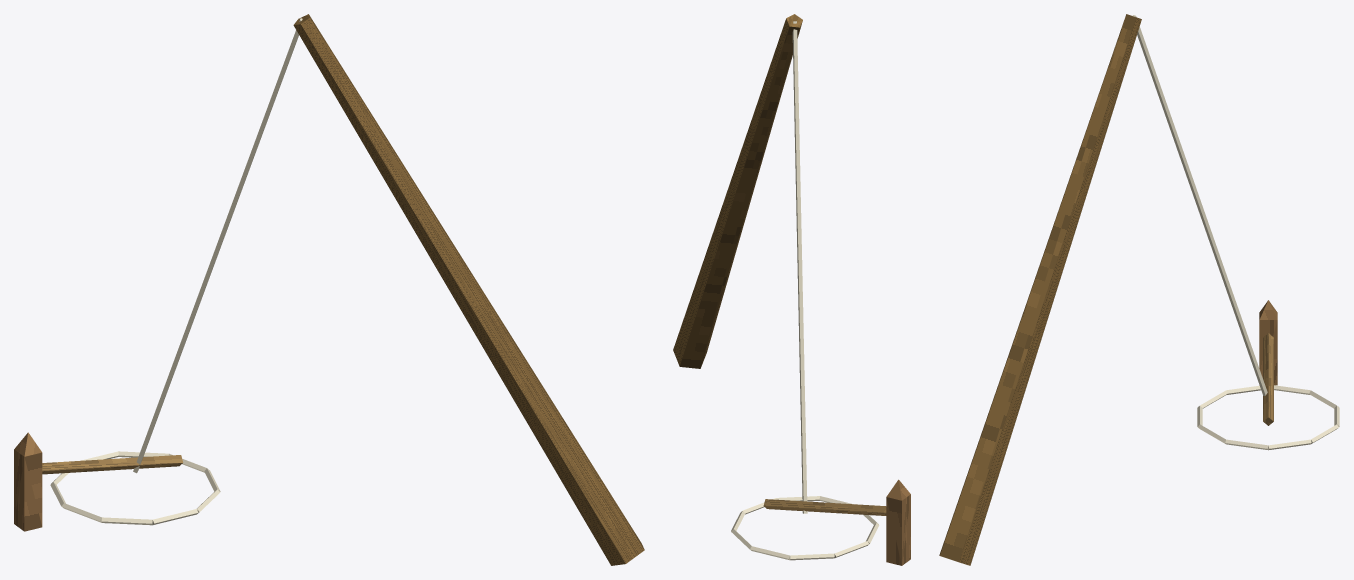
File: tr_light_snare.glb
3 renders of one model, left to right at view 1: azimuth 30°, elevation 25°; view 2: azimuth 150°, elevation 25°; view 3: azimuth 270°, elevation 25°, orthographic. The views are drawn at different scales.
Parts seen in each view (by area): view 1: block_sapling, block_stake, block_string, block_trigger stick; view 2: block_sapling, block_string, block_stake, block_trigger stick; view 3: block_sapling, block_string, block_trigger stick, block_stake.
Part boxes in pixels (x1=…): block_sapling: x1=293, y1=14, x2=644, y2=565; block_stake: x1=14, y1=432, x2=42, y2=531; block_string: x1=133, y1=18, x2=302, y2=473; block_trigger stick: x1=42, y1=455, x2=183, y2=474; block_sapling: x1=673, y1=14, x2=802, y2=368; block_string: x1=792, y1=21, x2=807, y2=513; block_stake: x1=886, y1=479, x2=910, y2=565; block_trigger stick: x1=763, y1=499, x2=886, y2=515; block_sapling: x1=939, y1=14, x2=1141, y2=565; block_string: x1=1132, y1=15, x2=1267, y2=395; block_trigger stick: x1=1263, y1=333, x2=1273, y2=425; block_stake: x1=1259, y1=300, x2=1277, y2=385.
Bounding box in the file's own units: 0.498 × 0.5644 × 0.4447.
Materials: 1 (1 with a texture image).
